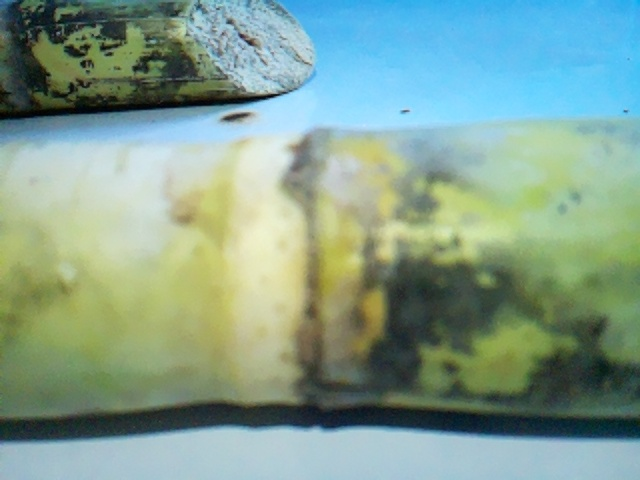Good Sugarcane: (0, 136, 636, 420), (0, 0, 313, 113)
Node: (198, 132, 423, 409)
